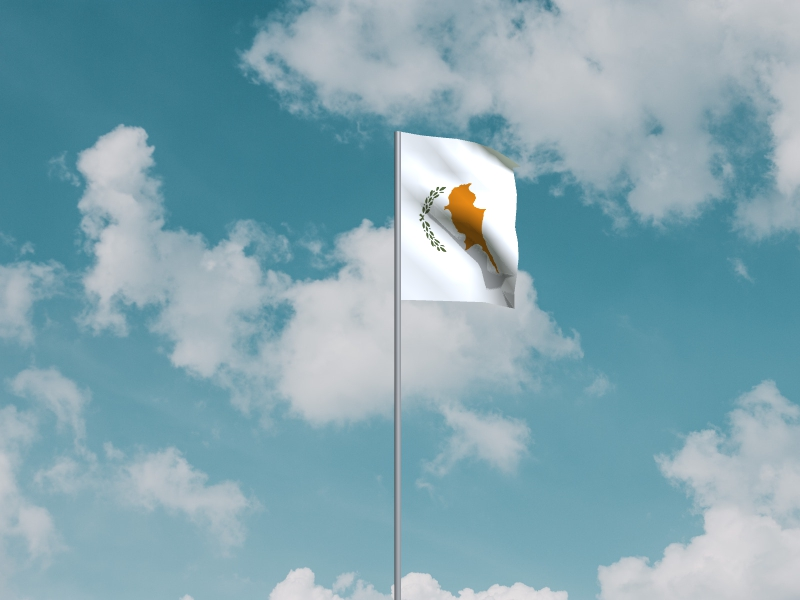cy: (402, 133, 522, 311)
